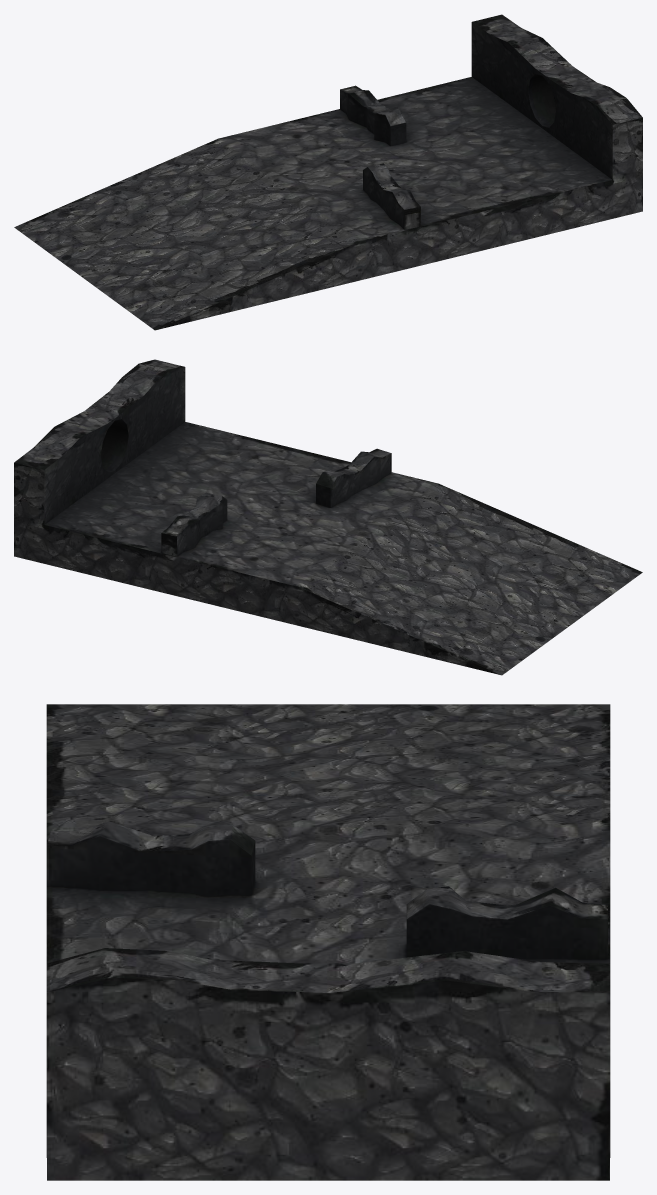
The model's file is Indiana Ball.fbx.
3 renders of one model, top to bottom at view 1: azimuth 30°, elevation 25°; view 2: azimuth 150°, elevation 25°; view 3: azimuth 270°, elevation 25°, orthographic. The views are drawn at different scales.
Parts seen in each view (by area): view 1: polymsh, polymsh_extracted, polymsh_extracted1; view 2: polymsh, polymsh_extracted1, polymsh_extracted; view 3: polymsh, polymsh_extracted1, polymsh_extracted.
Part boxes in pixels (bbox=[...]): polymsh: bbox=[14, 14, 642, 330]; polymsh_extracted: bbox=[340, 85, 406, 146]; polymsh_extracted1: bbox=[363, 163, 420, 229]; polymsh: bbox=[14, 359, 642, 675]; polymsh_extracted1: bbox=[316, 448, 391, 507]; polymsh_extracted: bbox=[161, 492, 227, 556]; polymsh: bbox=[46, 704, 610, 1180]; polymsh_extracted1: bbox=[46, 821, 255, 896]; polymsh_extracted: bbox=[406, 886, 607, 959].
Bounding box in the file's own units: 80 × 15.91 × 40.
